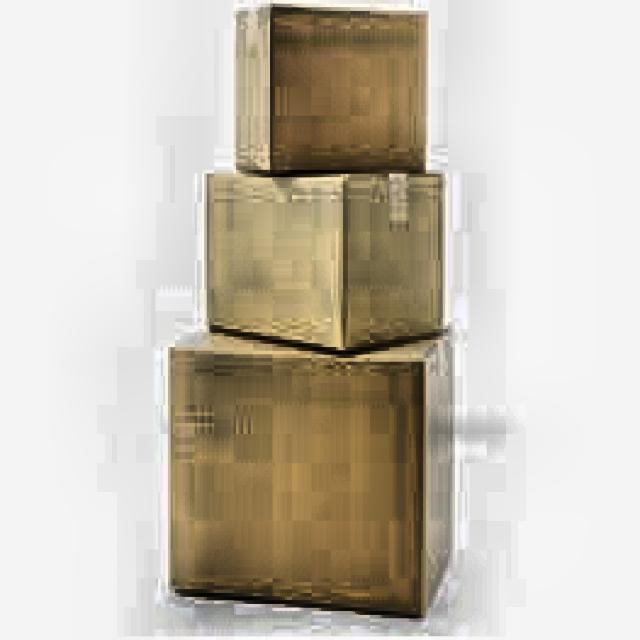cardboard: (166, 325, 456, 615), (202, 166, 446, 351), (234, 0, 428, 174)
